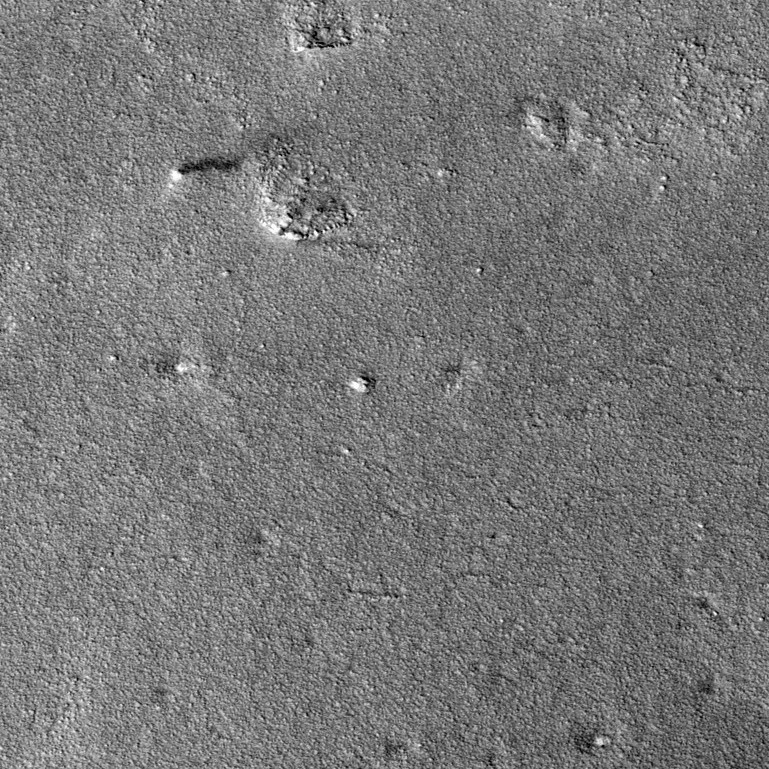dust_devil: (166, 154, 245, 188)
